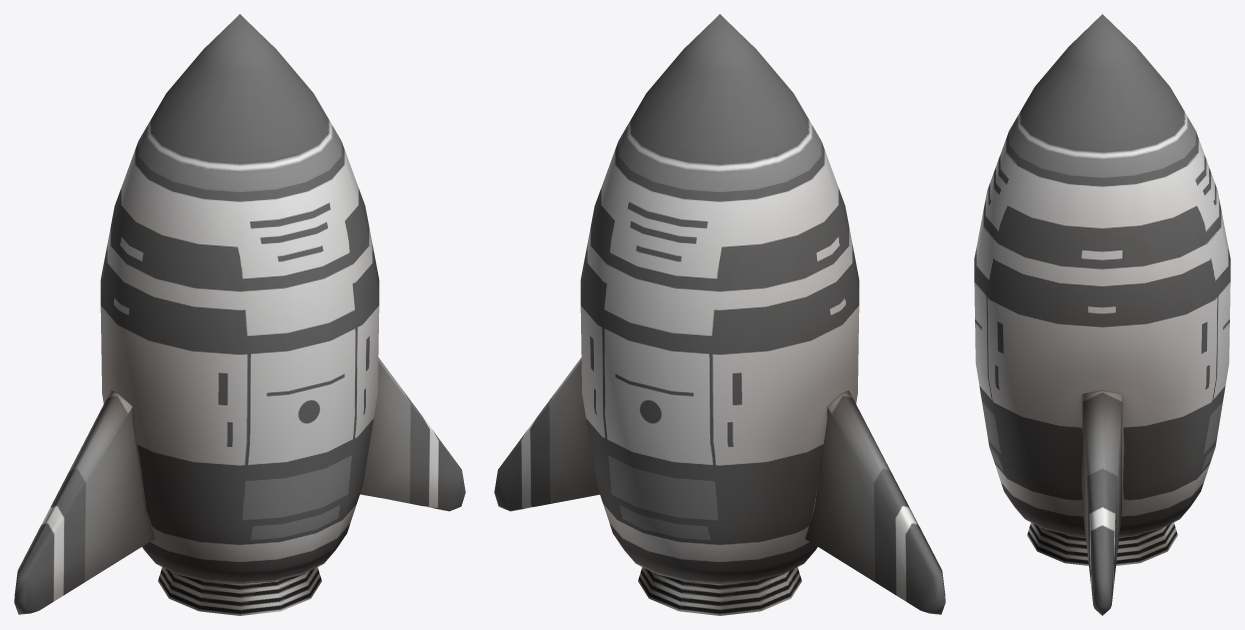
The picture shows the model from 3 angles, left to right: view 1: azimuth 30°, elevation 25°; view 2: azimuth 150°, elevation 25°; view 3: azimuth 270°, elevation 25°; orthographic projection. The views are drawn at different scales.
Parts seen in each view (by area): view 1: S013; view 2: S013; view 3: S013.
Boxes of the visible parts, x1,y1,x2,y2 form: S013: (14, 14, 465, 615); S013: (494, 14, 945, 615); S013: (974, 14, 1230, 615).
Bounding box in the file's own units: 55.05 × 66.1 × 29.43.
1 material, 1 textured.
